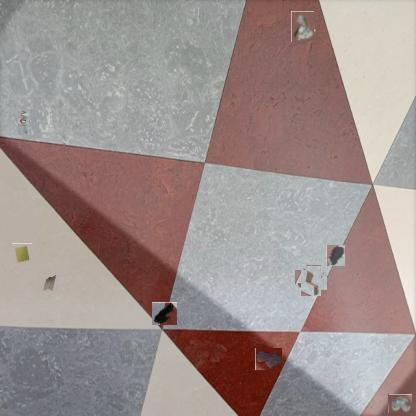dirty: (289, 13, 316, 40), (298, 267, 324, 293), (151, 302, 177, 325), (388, 394, 412, 413), (12, 244, 33, 264), (40, 272, 58, 292), (18, 109, 30, 135)
liquid: (255, 348, 282, 370), (326, 244, 345, 266)
